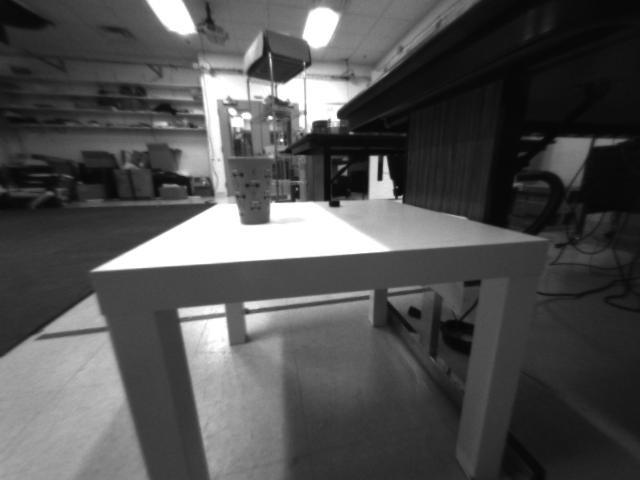coffee_cup: (224, 156, 283, 226)
